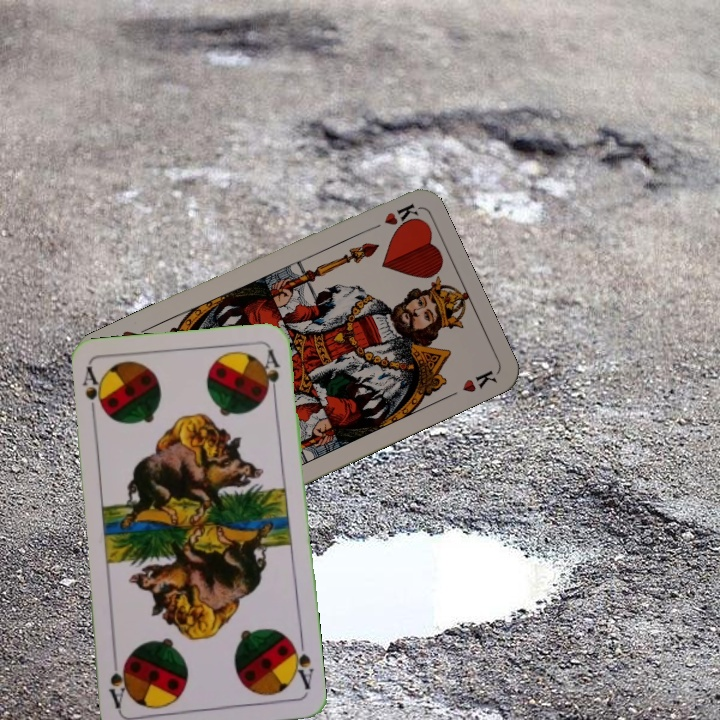HK: (361, 199, 420, 235)
SA: (286, 635, 316, 692), (78, 363, 105, 423)
